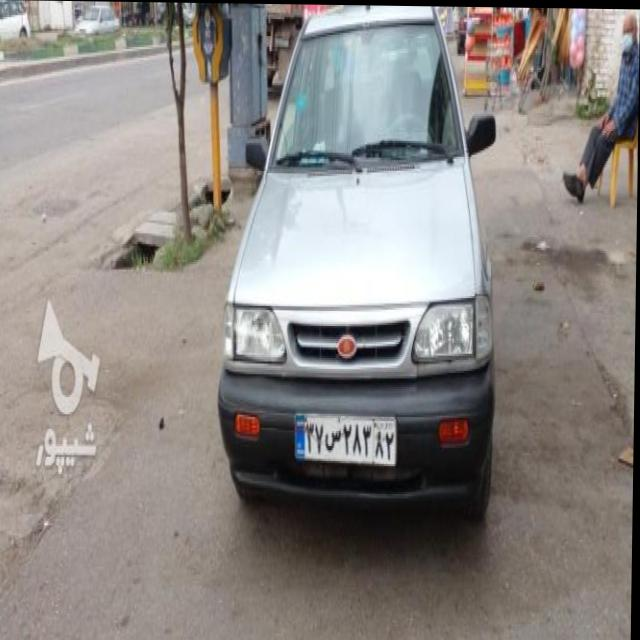licence: (293, 412, 395, 467)
